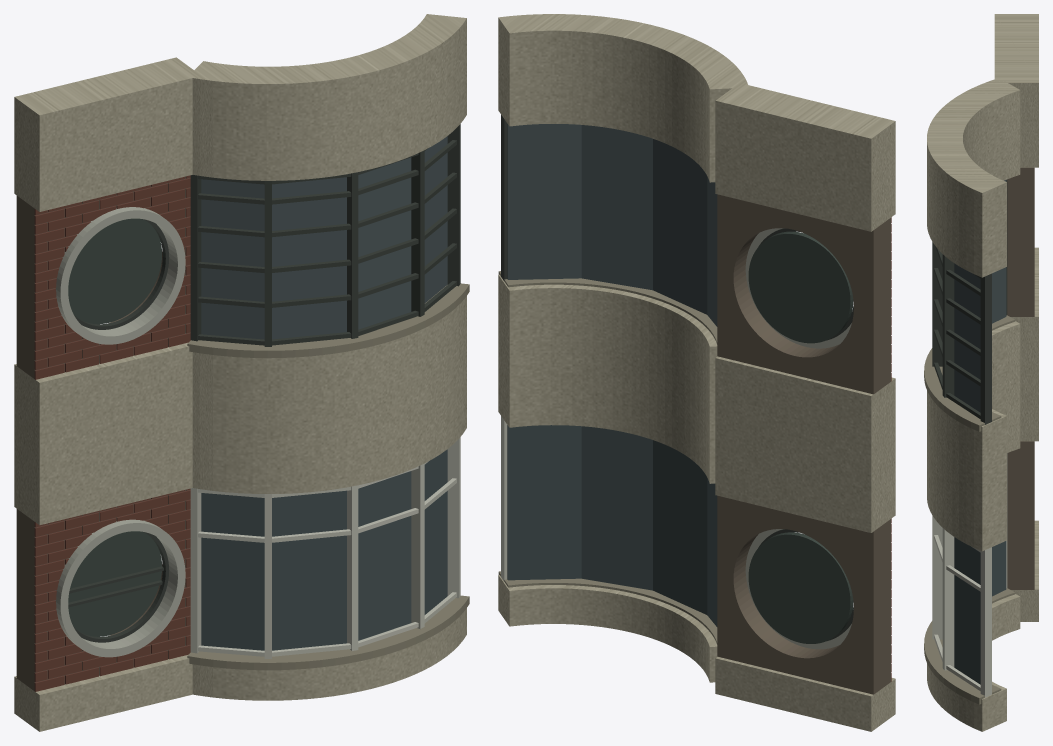
File: huangpu-gaolan-lane-12-portholes-and-curved-bay-web.glb
The picture shows the model from 3 angles, left to right: view 1: azimuth 30°, elevation 25°; view 2: azimuth 150°, elevation 25°; view 3: azimuth 270°, elevation 25°; orthographic projection. The views are drawn at different scales.
Parts seen in each view (by area): view 1: 皋兰路12弄街面住宅双层圆窗与弧形带窗; view 2: 皋兰路12弄街面住宅双层圆窗与弧形带窗; view 3: 皋兰路12弄街面住宅双层圆窗与弧形带窗.
Part boxes in pixels (x1=…): 皋兰路12弄街面住宅双层圆窗与弧形带窗: x1=14, y1=14, x2=469, y2=731; 皋兰路12弄街面住宅双层圆窗与弧形带窗: x1=498, y1=14, x2=895, y2=731; 皋兰路12弄街面住宅双层圆窗与弧形带窗: x1=924, y1=14, x2=1038, y2=731.
Size of the model in its own units: 4.05 by 5.67 by 1.09.
Materials: 10 (1 with a texture image).
